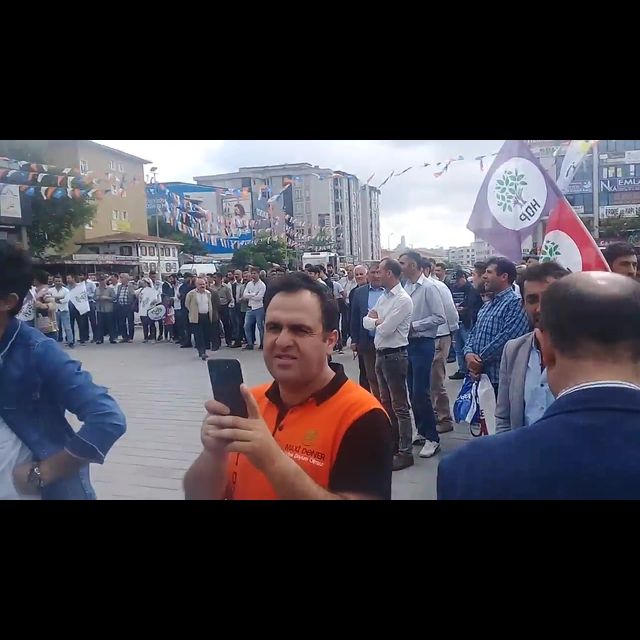HDP: (490, 167, 527, 210)
